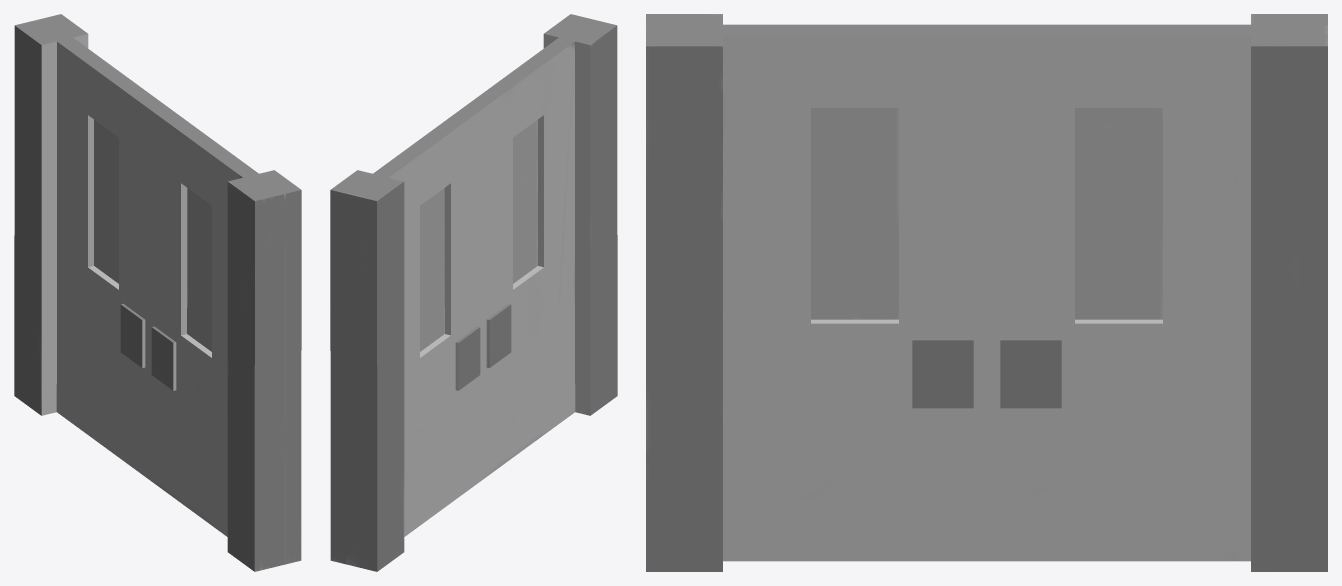
Rendered from MainDoors.fbx.
The picture shows the model from 3 angles, left to right: view 1: azimuth 30°, elevation 25°; view 2: azimuth 150°, elevation 25°; view 3: azimuth 270°, elevation 25°; orthographic projection. The views are drawn at different scales.
Parts seen in each view (by area): view 1: Cube; view 2: Cube; view 3: Cube.
Boxes of the visible parts, bbox=[...] form: Cube: bbox=[14, 14, 301, 571]; Cube: bbox=[330, 14, 617, 571]; Cube: bbox=[646, 14, 1327, 571].
Bounding box in the file's own units: 197 × 1489 × 1750.
